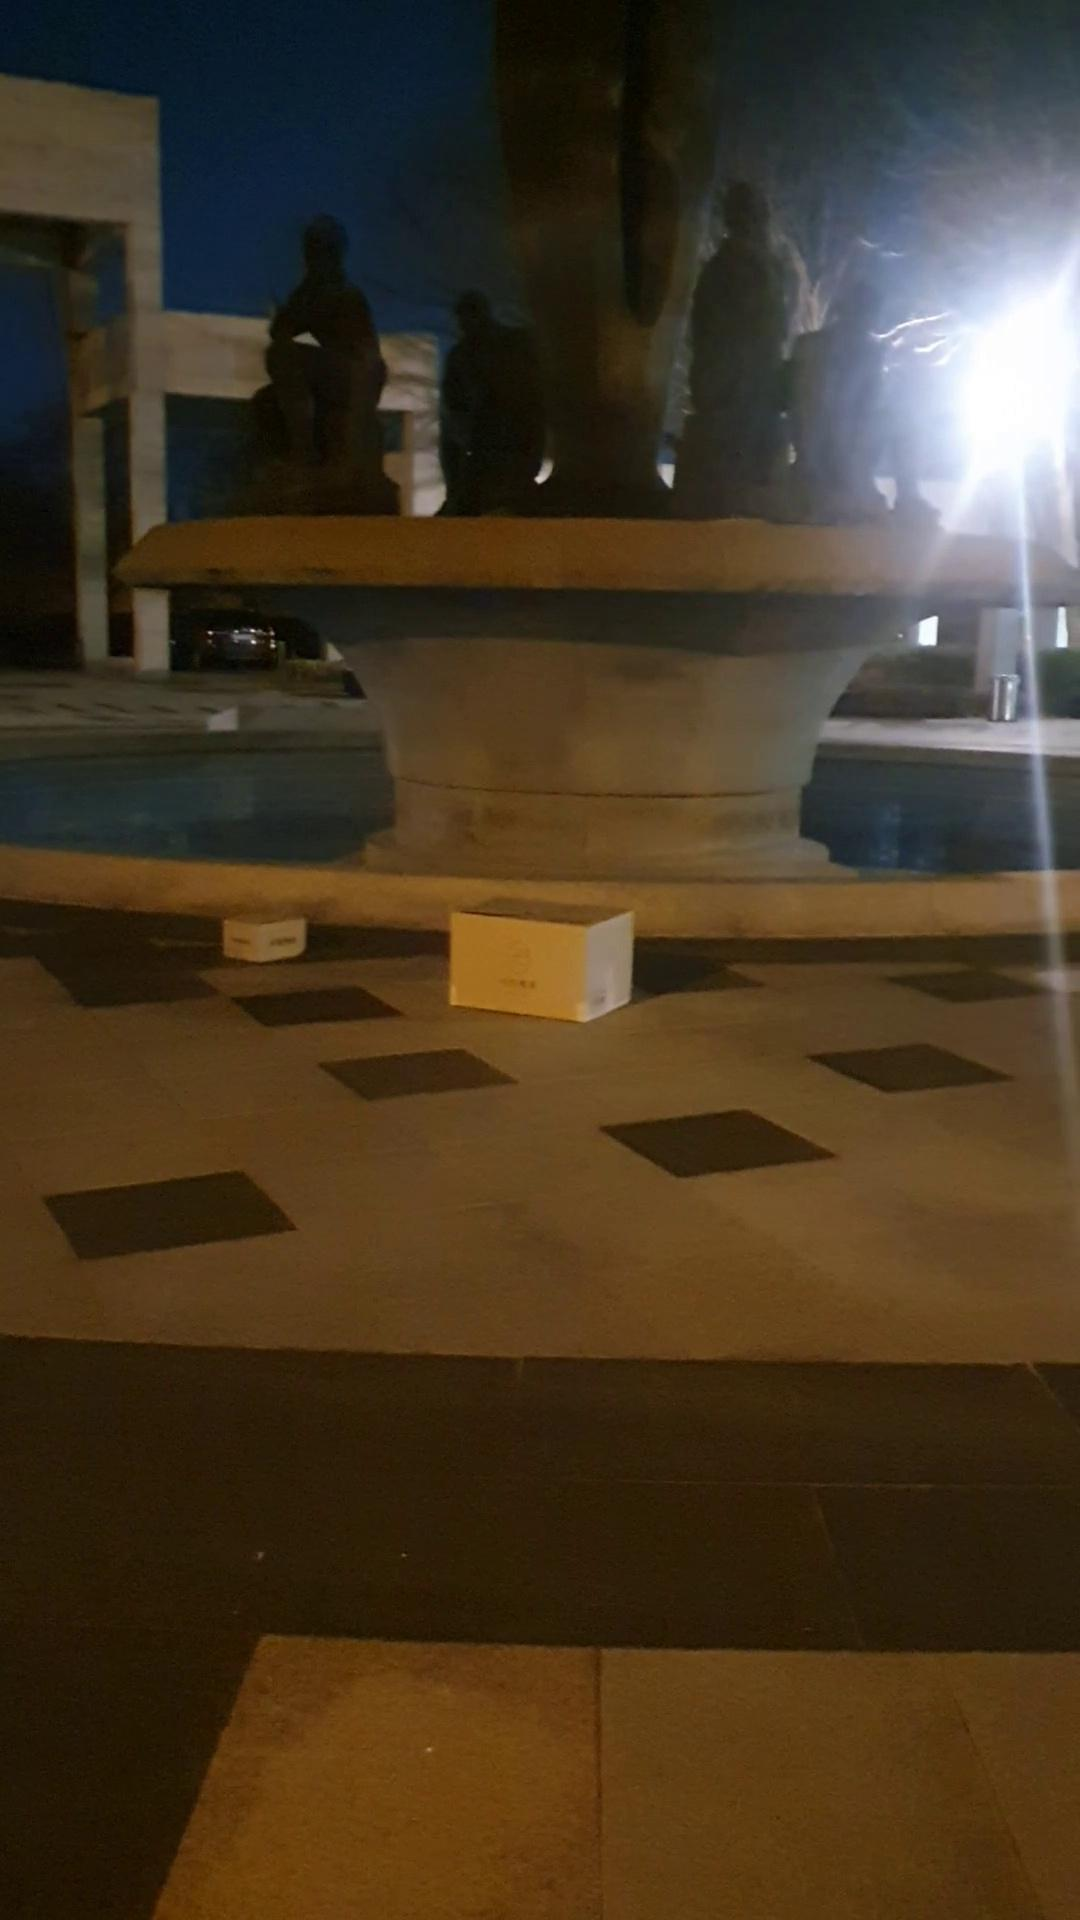Box: (426, 884, 653, 1038), (216, 895, 318, 975)
